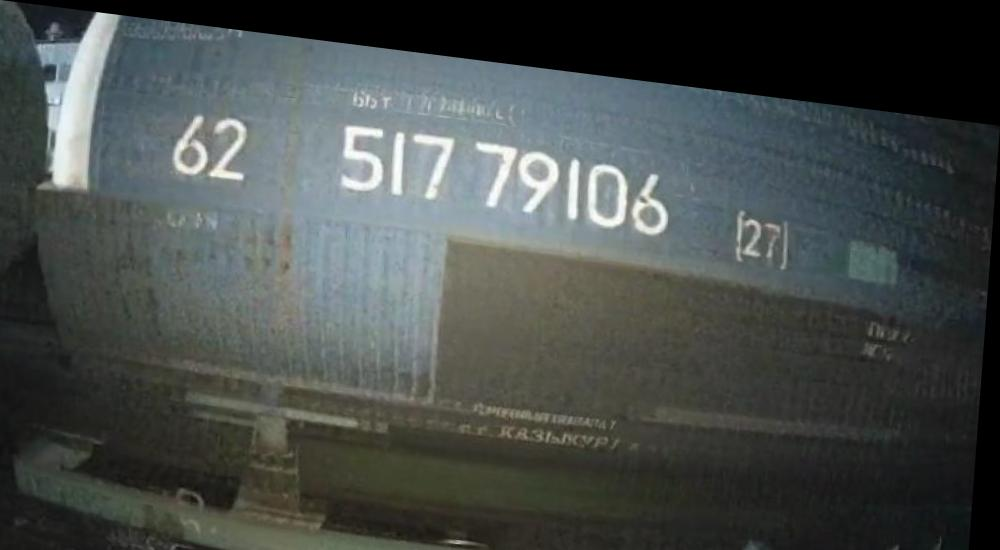Wagon-number: (333, 108, 677, 227)
